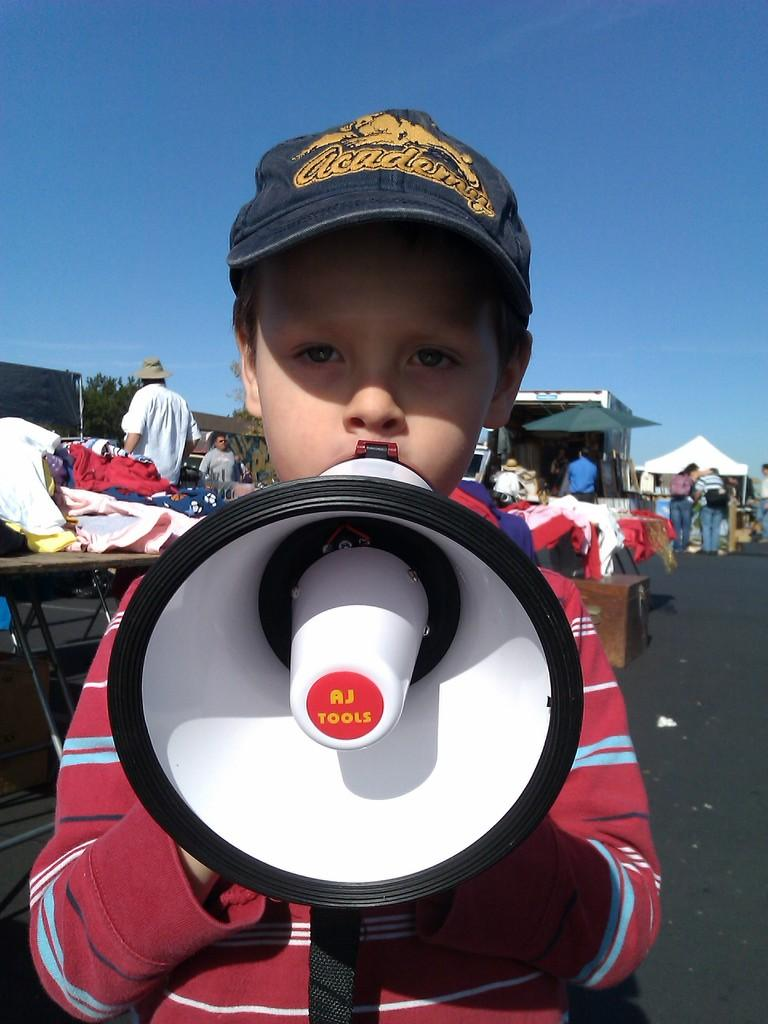Hat: (225, 108, 530, 338), (133, 354, 173, 380)
